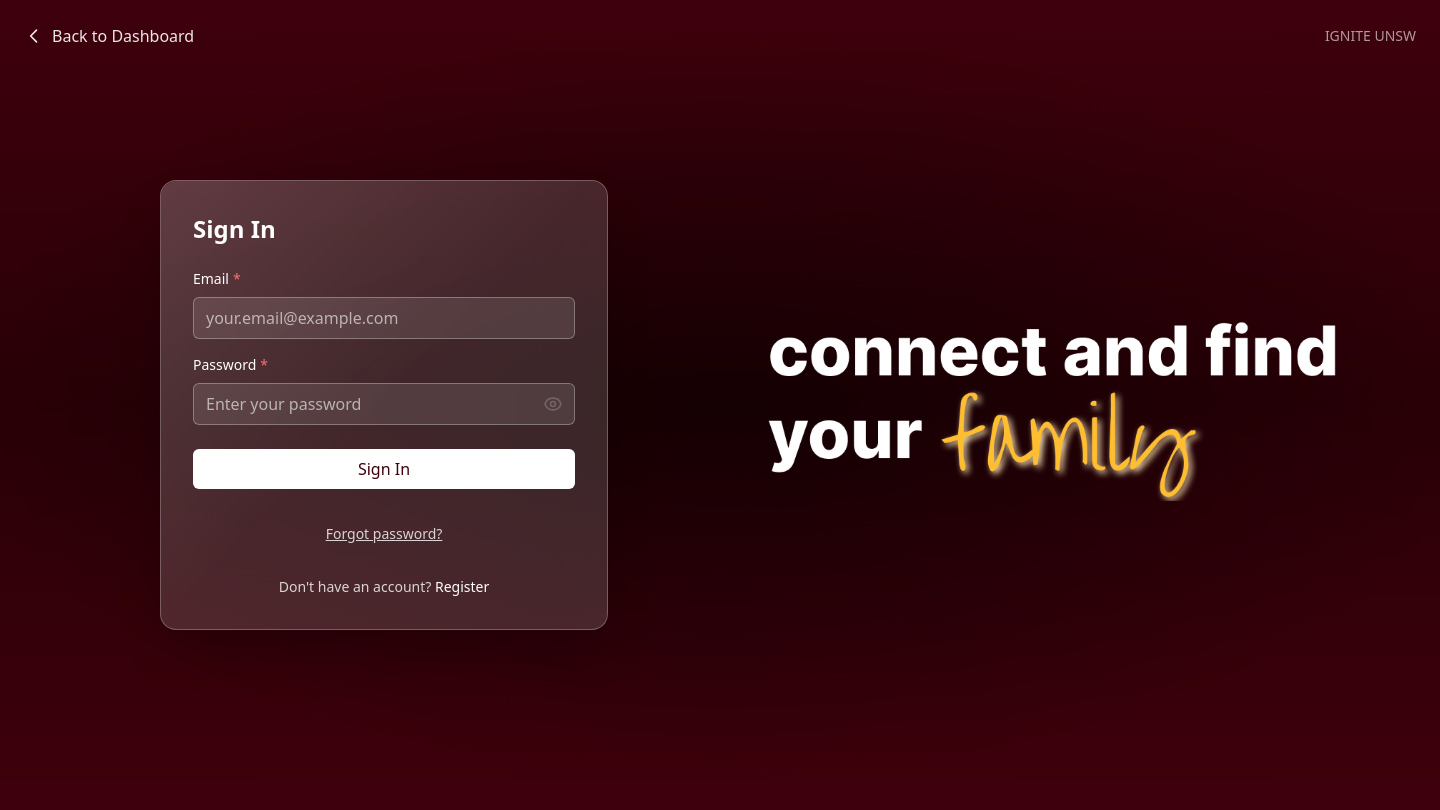
Test: Login Page › handles account not verified error with verify link
Type "unverified@example.com" into the field labelled "Email*" at (384, 318), box top-left (193, 297), bottom-right (575, 339)
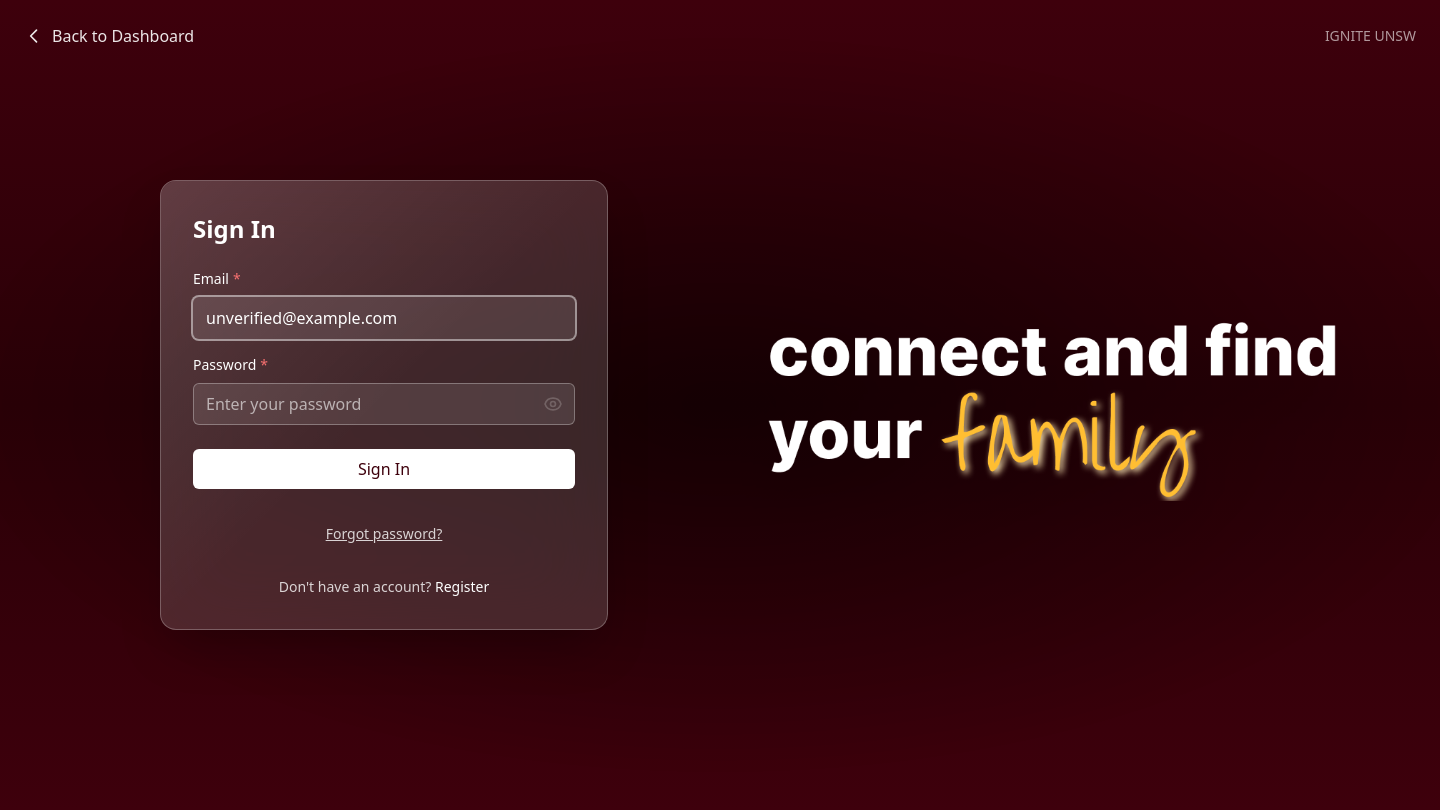
Type "password123" into the password field with placeholder "Enter your password" at (384, 404), box top-left (193, 383), bottom-right (575, 425)
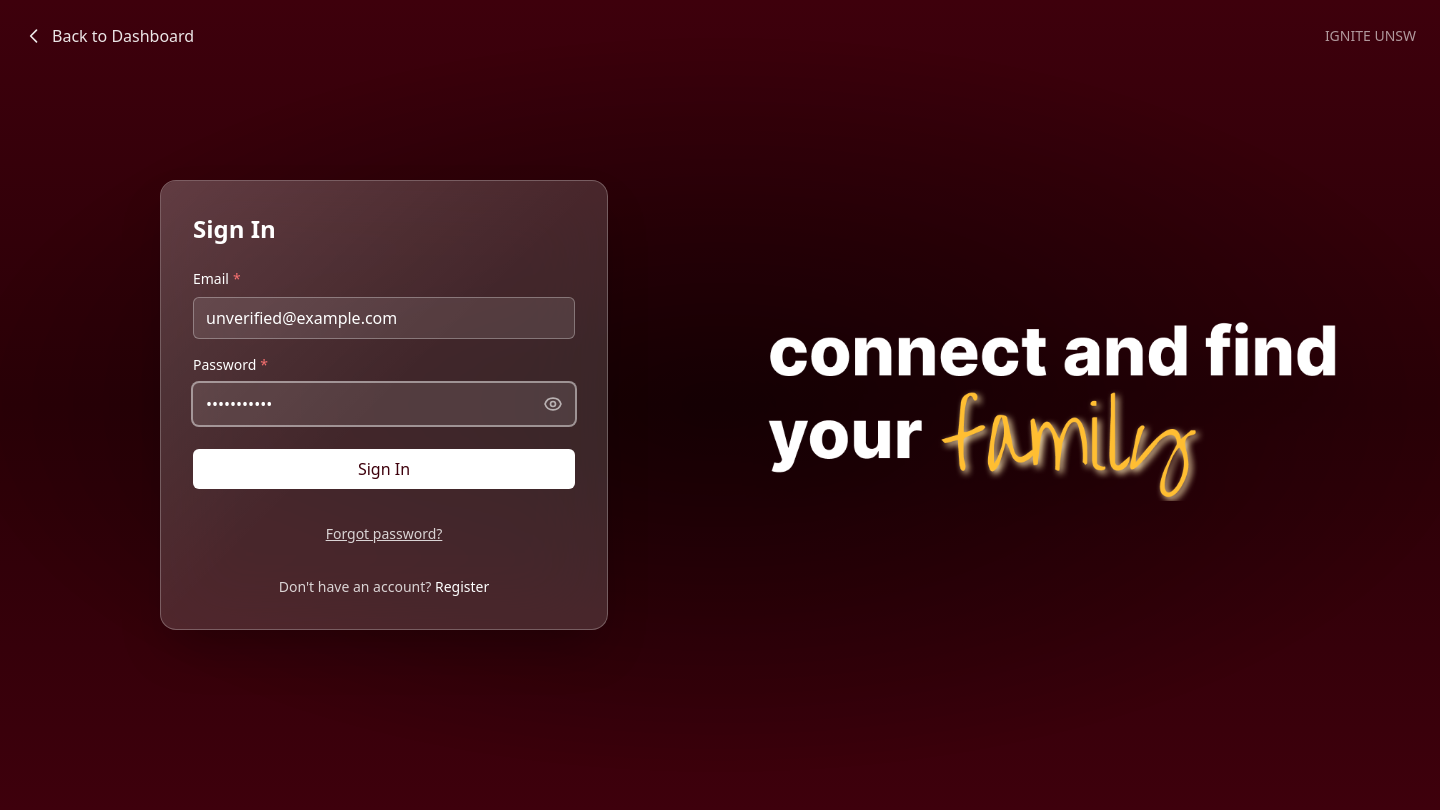
Click the button "Sign In" at (384, 469), box top-left (193, 449), bottom-right (575, 489)
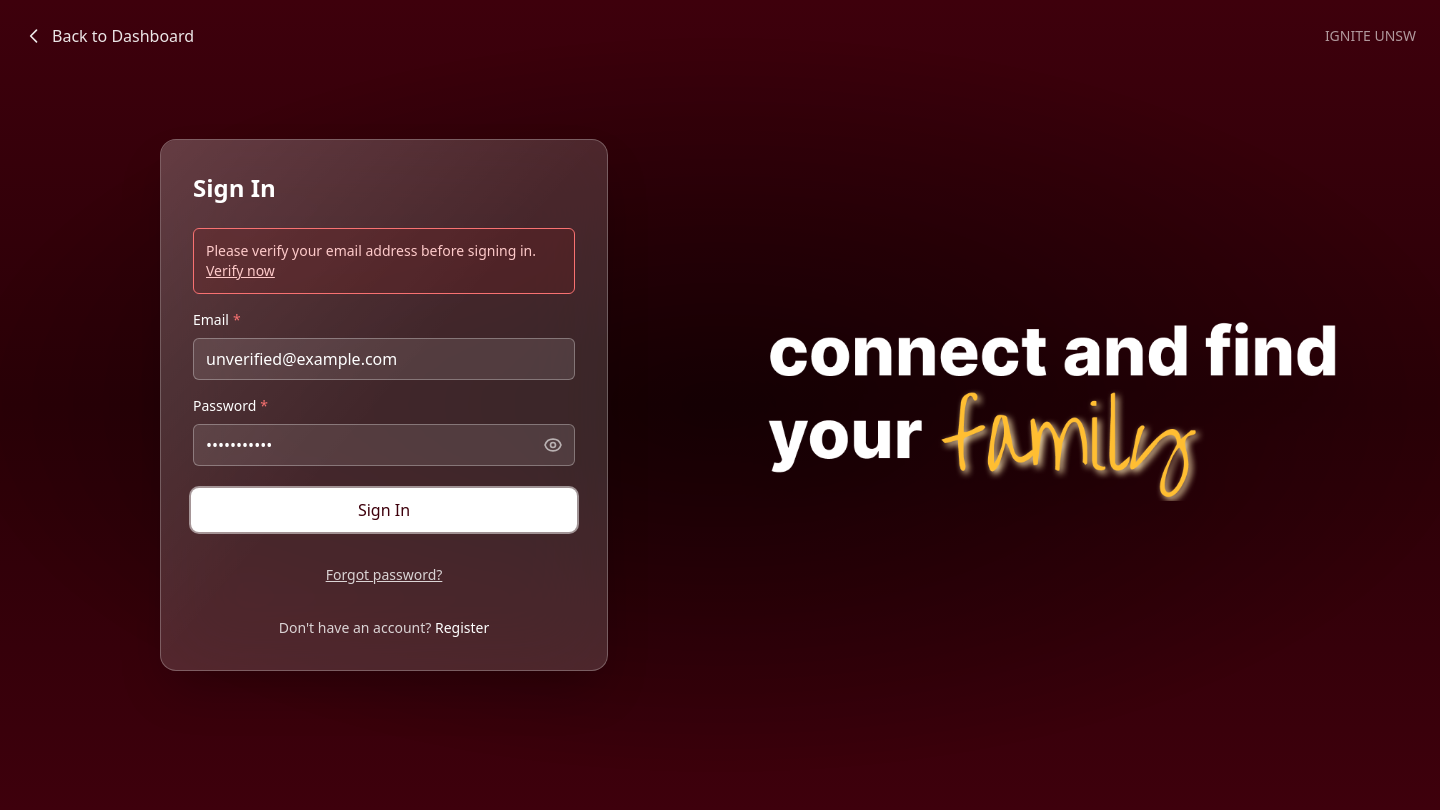
Expected: the text "Please verify your email address before signing in. Verify now" is shown, top-left (193, 228), bottom-right (575, 294)
Expected: the link "Verify now" is shown, top-left (206, 261), bottom-right (275, 280)
